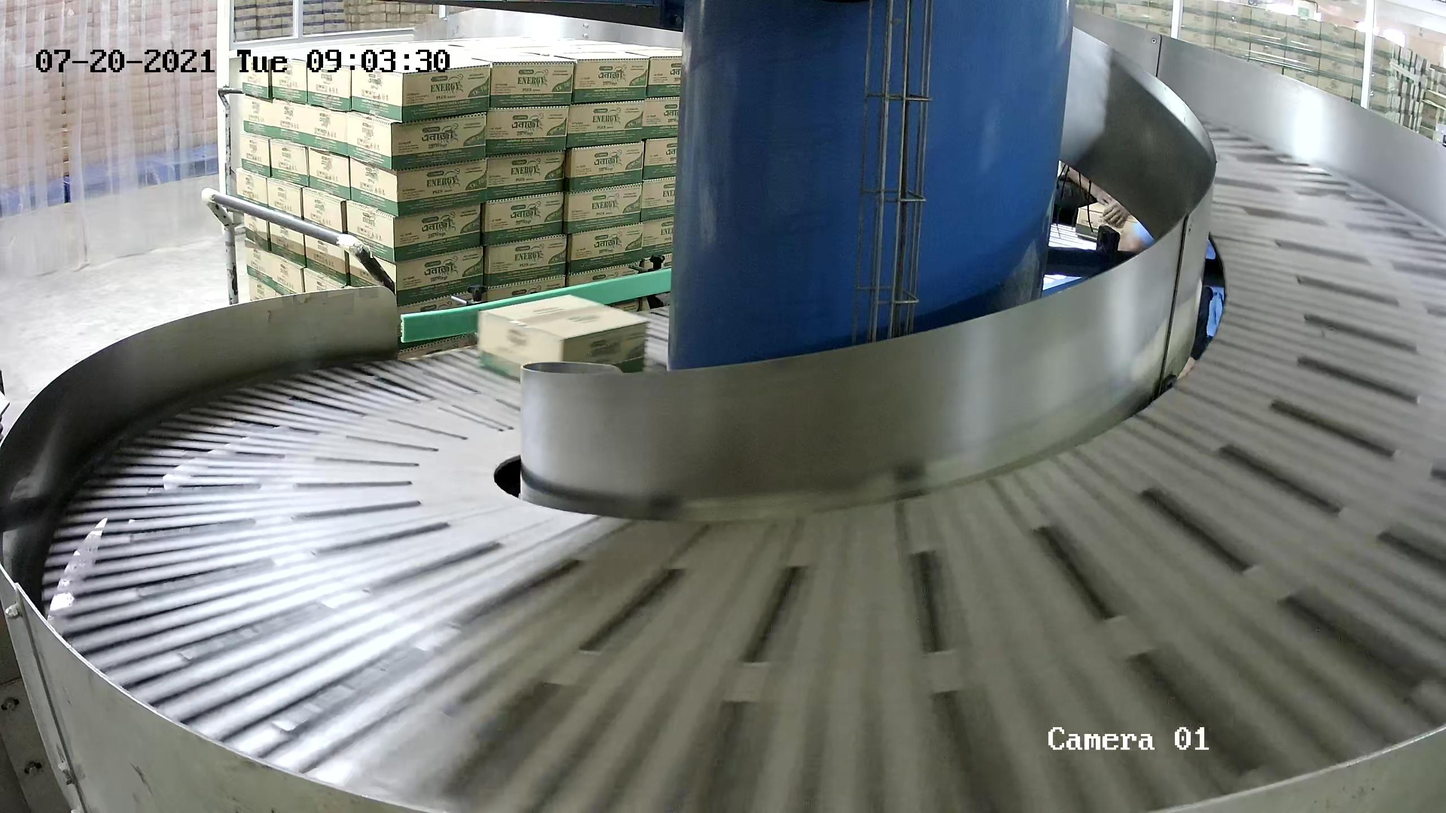Box: (475, 291, 653, 389)
